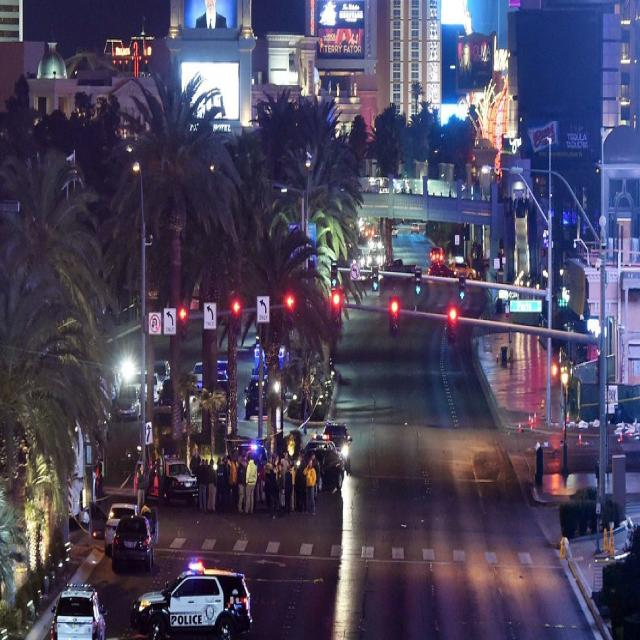body: (191, 452, 323, 512), (359, 183, 530, 220), (315, 26, 366, 61), (189, 0, 234, 32), (241, 449, 258, 516), (302, 457, 317, 518), (456, 40, 477, 82), (205, 456, 217, 516), (279, 449, 290, 512), (310, 449, 321, 512), (156, 446, 167, 507), (136, 462, 148, 516), (276, 461, 286, 518), (198, 458, 208, 514), (290, 458, 300, 512), (139, 501, 153, 539), (271, 453, 280, 512), (254, 458, 264, 507), (284, 464, 293, 518), (288, 459, 297, 513), (237, 462, 246, 514), (188, 444, 202, 476), (264, 454, 274, 478)
